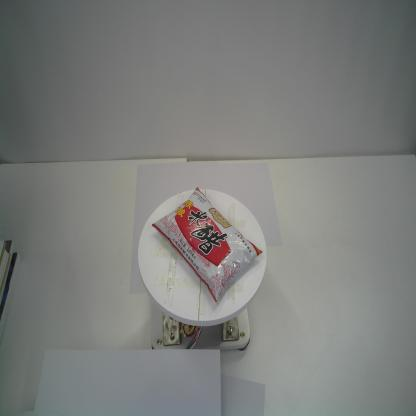Seasoner: (149, 183, 264, 305)
